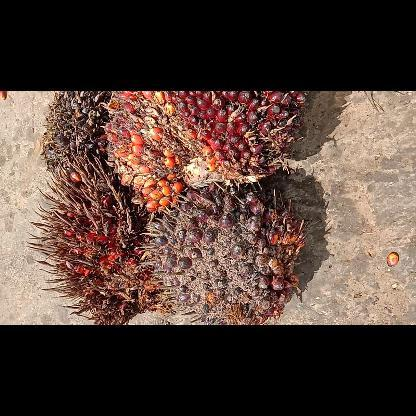Kurang masak: (140, 182, 306, 324)
TBS abnormal: (40, 91, 108, 175)
TBS masak: (103, 91, 309, 213)
Terlalu masak: (26, 154, 172, 324)
